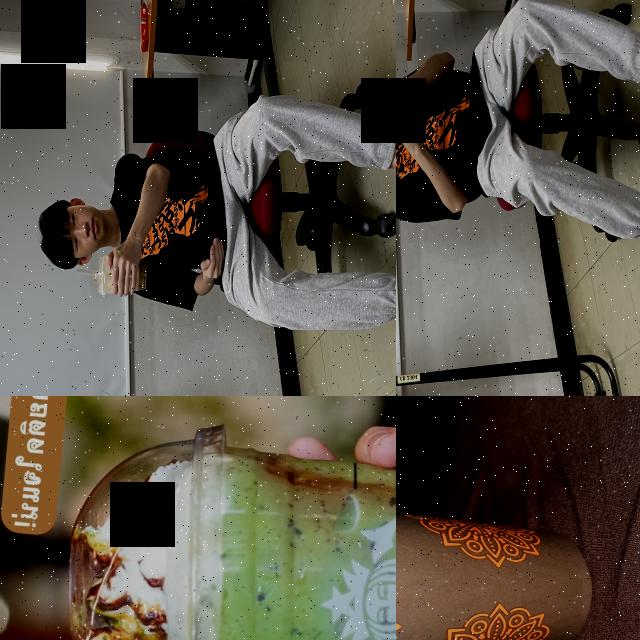cup: (69, 423, 396, 640), (396, 490, 597, 640), (97, 254, 147, 298), (396, 88, 416, 128)
